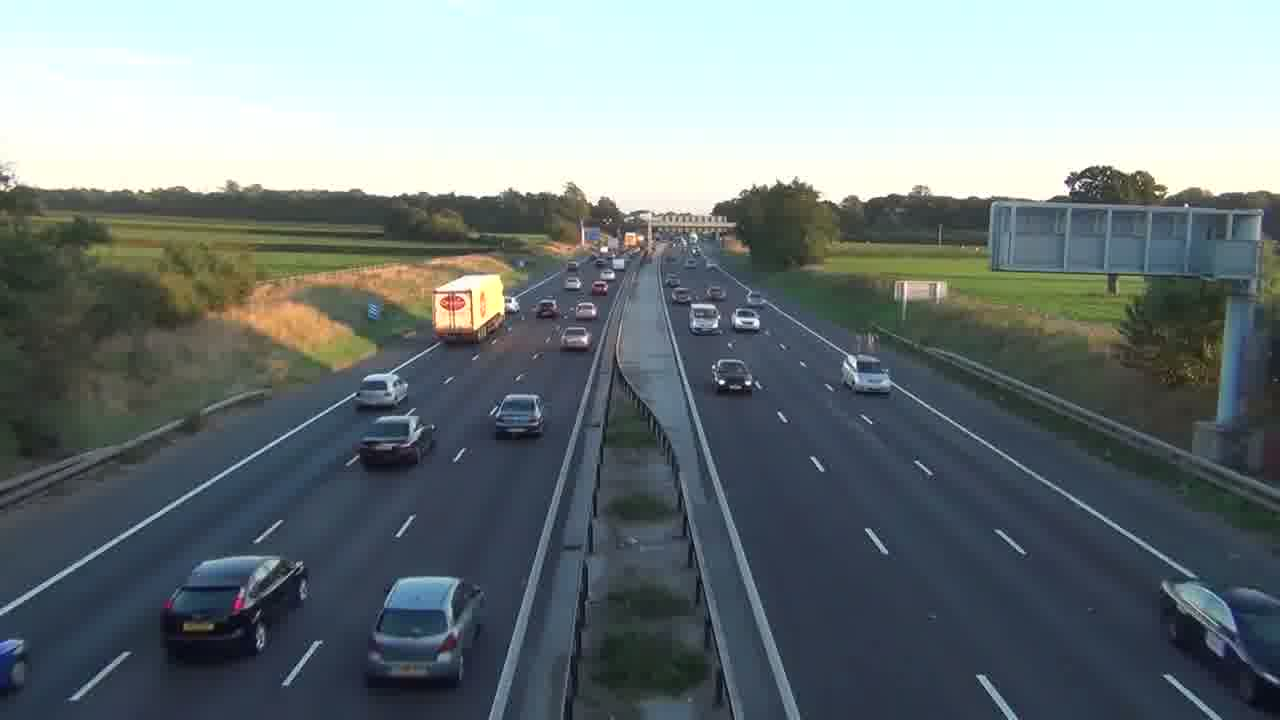car: (159, 554, 310, 662), (1158, 577, 1280, 707), (365, 575, 485, 687), (356, 413, 436, 469), (492, 392, 546, 438), (839, 353, 892, 395), (356, 372, 409, 409), (0, 638, 31, 695), (711, 357, 754, 393), (733, 307, 762, 332), (591, 279, 609, 295)
truck: (159, 554, 310, 662), (1158, 577, 1280, 707), (433, 273, 506, 343)
